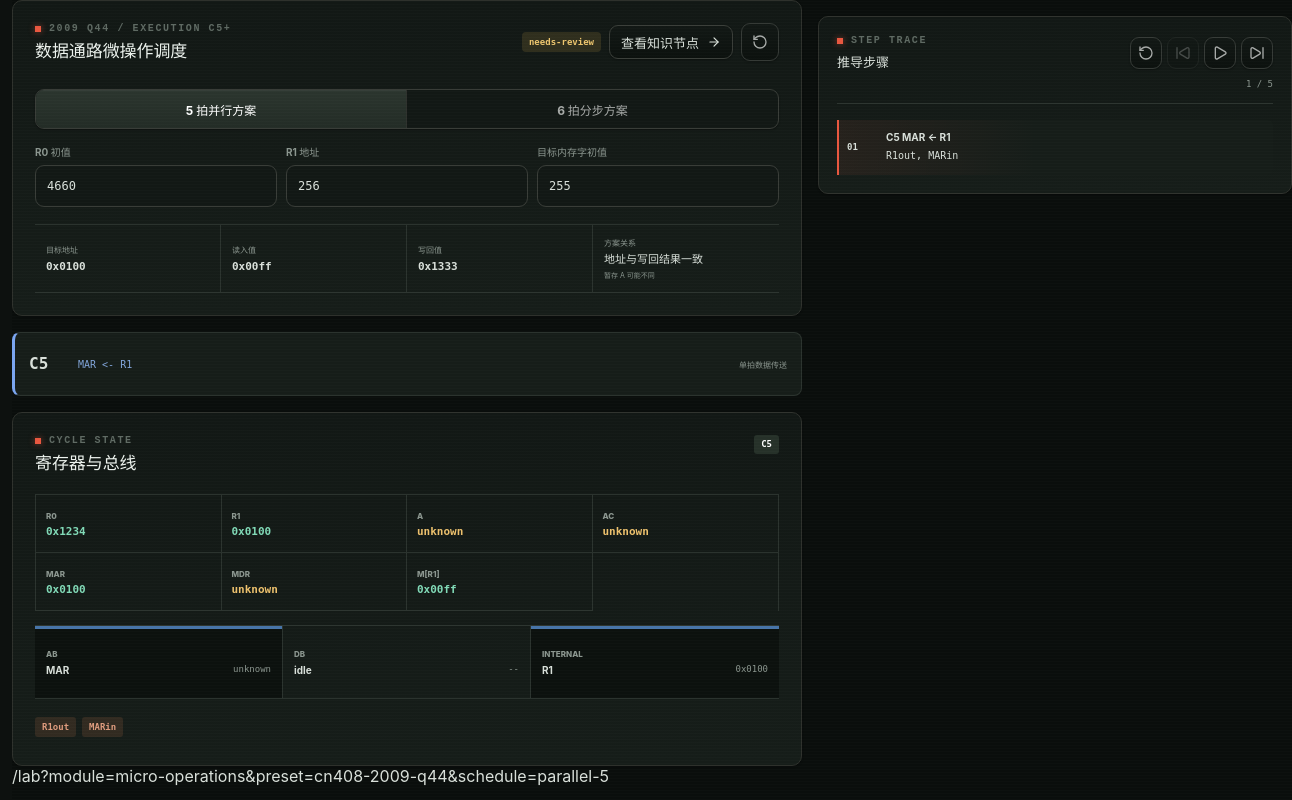
MicroOperationsLabPanel › switches to the six-cycle source replay, writes its URL, and resets the active step
The width and height of the screenshot is (1292, 800).
Click the button named "下一步".
click(1257, 53)  # box 1241,37 -> 1273,69
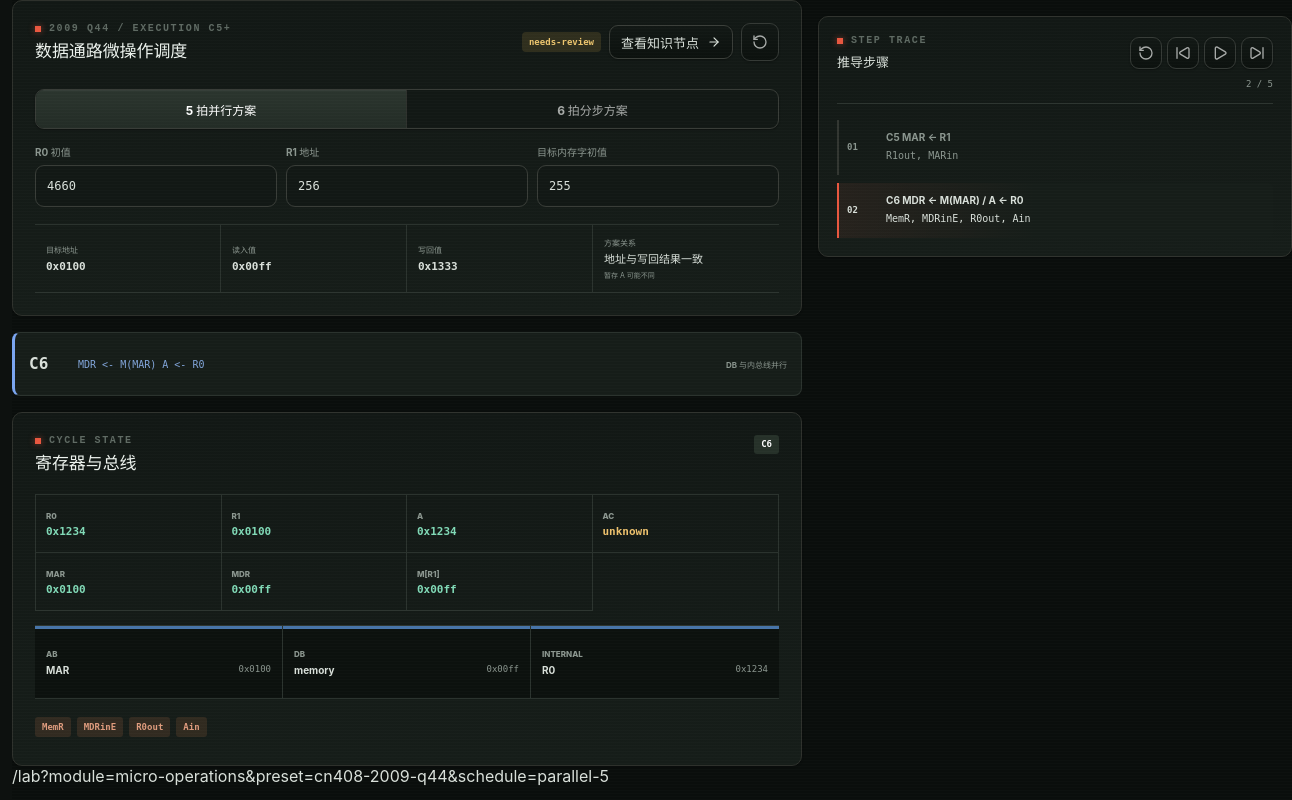
Click the button named "下一步".
click(1257, 53)  # box 1241,37 -> 1273,69
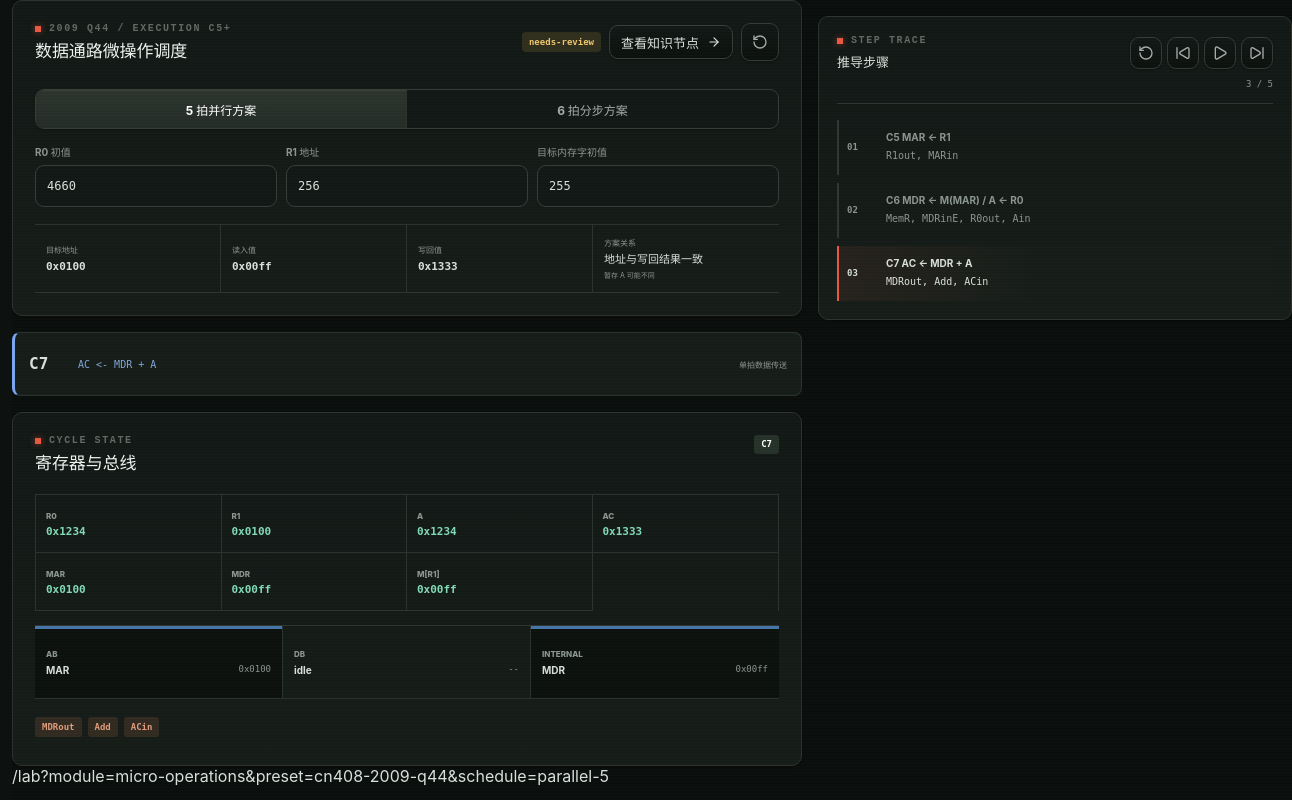
Result: the element named "当前微操作" shows "C7" at 12,332 -> 802,396
Click the button "6 拍分步方案".
click(592, 109)  # box 407,90 -> 778,128
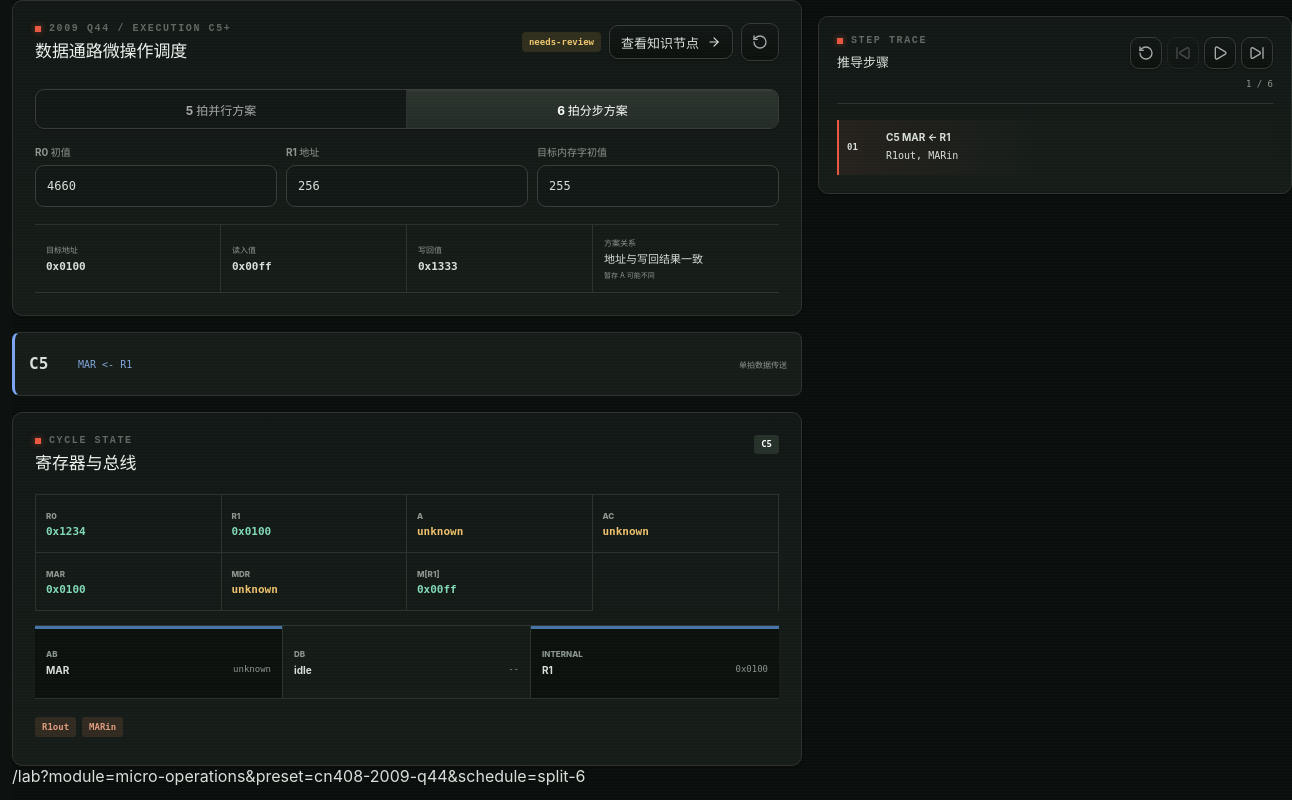
Result: the text named "current URL" reads "/lab?module=micro-operations&preset=cn408-2009-q44&schedule=split-6" at 12,766 -> 586,786
Result: the element named "当前微操作" shows "C5" at 12,332 -> 802,396
Result: the element named "转换步骤" shows "1 / 6" at 818,16 -> 1291,194
Click the button named "下一步".
click(1257, 53)  # box 1241,37 -> 1273,69
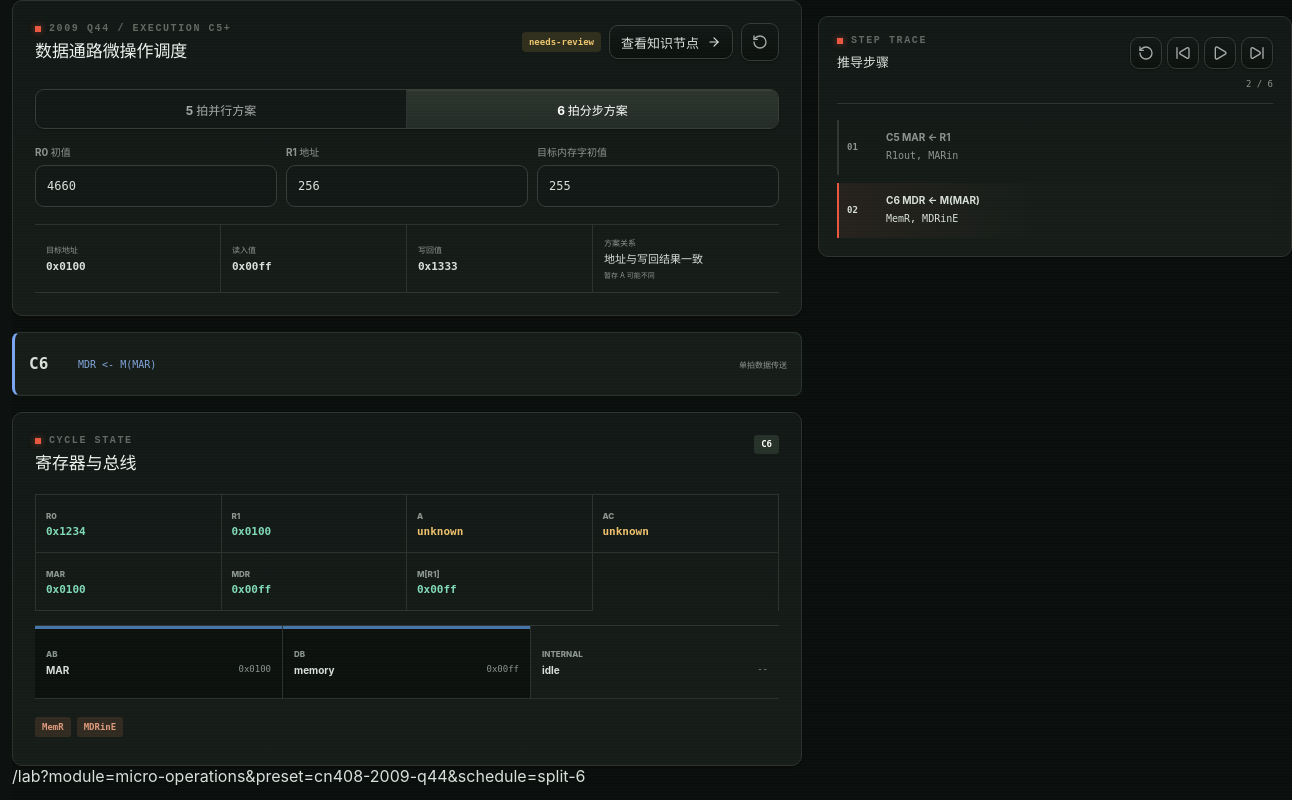
Result: the element named "当前微操作" does not show "A <- R0" at 12,332 -> 802,396
Result: the element named "当前微操作" shows "MDR <- M(MAR)" at 78,358 -> 156,370
Result: the element named "CPU 内总线" shows "idle" at 542,664 -> 560,676
